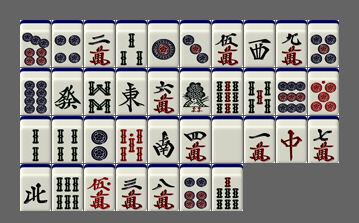0m: (84, 164, 115, 211)
0p: (308, 68, 339, 115)
0s: (116, 116, 147, 163)
1m: (244, 116, 275, 163)
1p: (148, 20, 179, 67)
1s: (180, 68, 211, 115)
1z: (116, 68, 147, 115)
2m: (84, 20, 115, 67)
2p: (84, 116, 115, 163)
2s: (20, 116, 51, 163)
2z: (148, 116, 179, 163)
3m: (116, 164, 147, 211)
3p: (180, 20, 211, 67)
3s: (116, 20, 147, 67)
3z: (244, 20, 275, 67)
4m: (180, 116, 211, 163)
4p: (52, 20, 83, 67)
4s: (52, 116, 83, 163)
4z: (20, 164, 51, 211)
5m: (212, 20, 243, 67)
5p: (308, 20, 339, 67)
5s: (244, 68, 275, 115)
5z: (212, 116, 243, 163)
6m: (148, 68, 179, 115)
6p: (180, 164, 211, 211)
6s: (52, 164, 83, 211)
6z: (52, 68, 83, 115)
7m: (308, 116, 339, 163)
7p: (20, 20, 51, 67)
7s: (212, 164, 243, 211)
7z: (276, 116, 307, 163)
8m: (148, 164, 179, 211)
8p: (20, 68, 51, 115)
8s: (84, 68, 115, 115)
9m: (276, 20, 307, 67)
9p: (276, 68, 307, 115)
9s: (212, 68, 243, 115)
